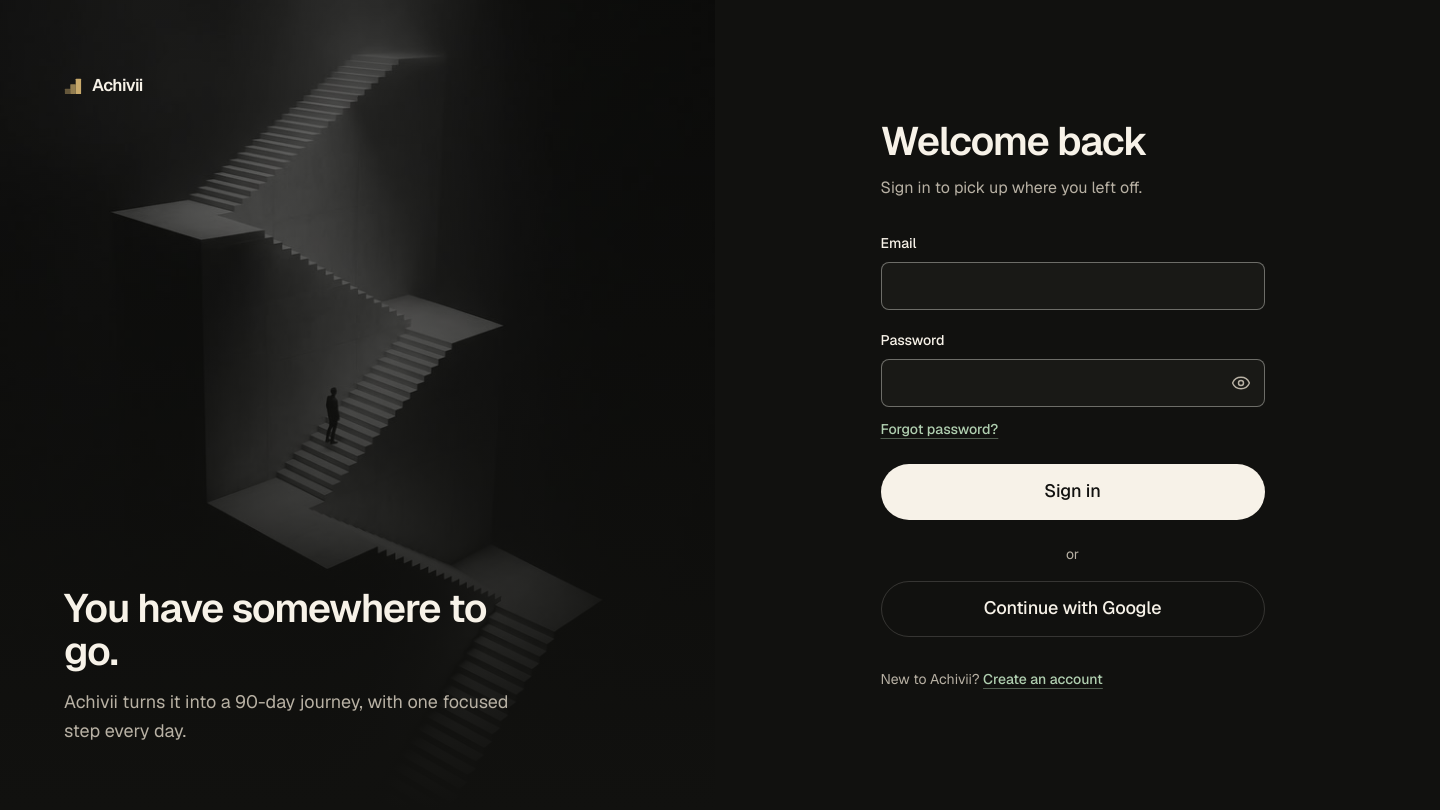
Scenario: sign in with Google (B-15) › a failure shows in the form
Click the button "Continue with Google" at point(1072, 609), box [880,581,1264,637]
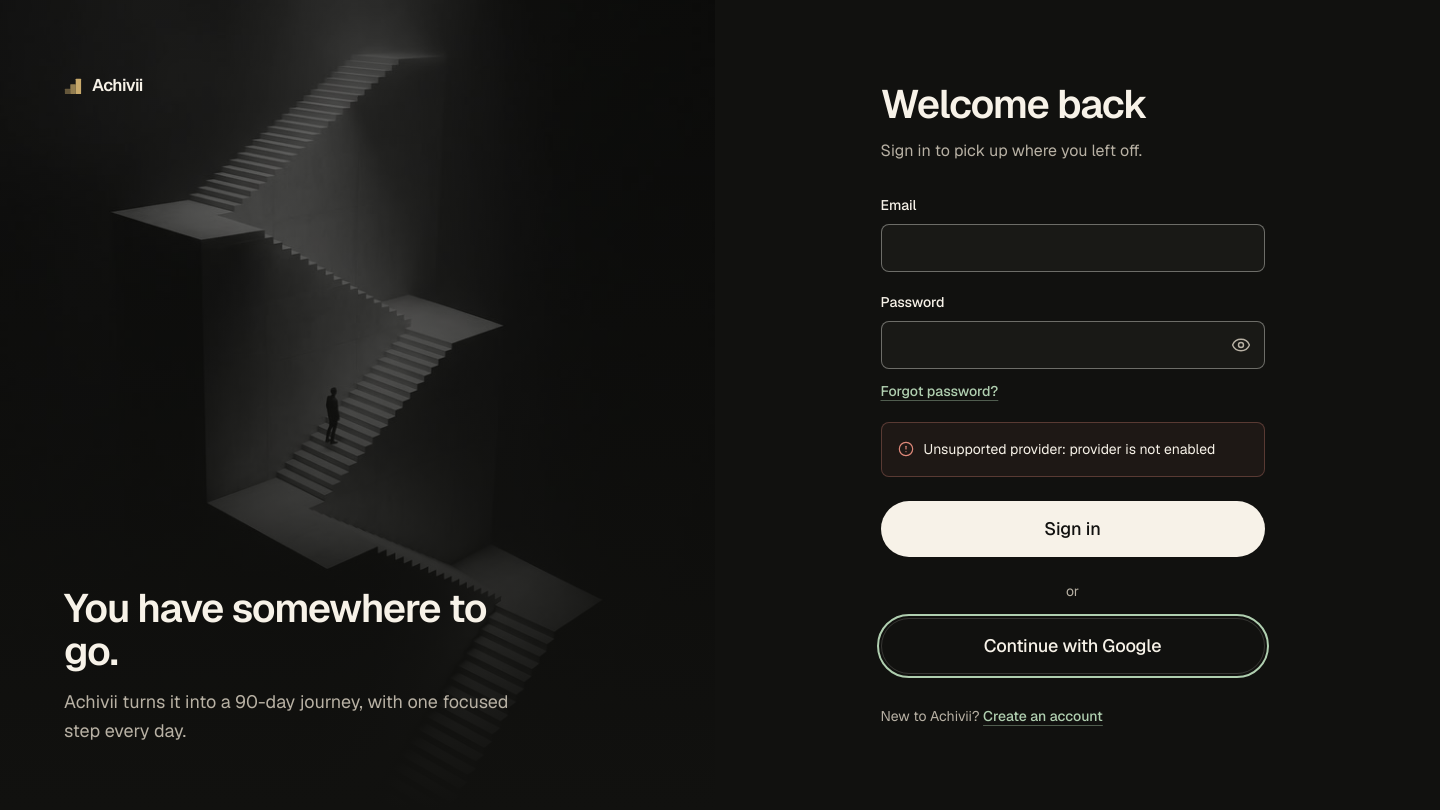
expect the message shows "Unsupported provider": met, box [924,440,1215,458]
